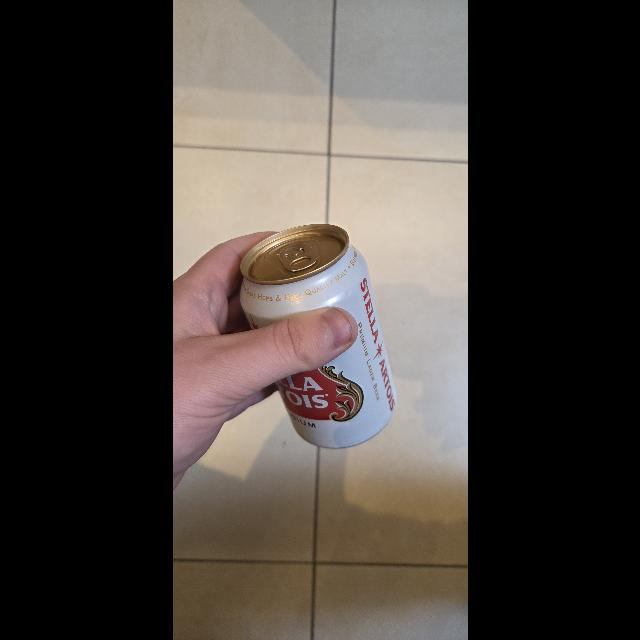Metal: (238, 226, 398, 454)
